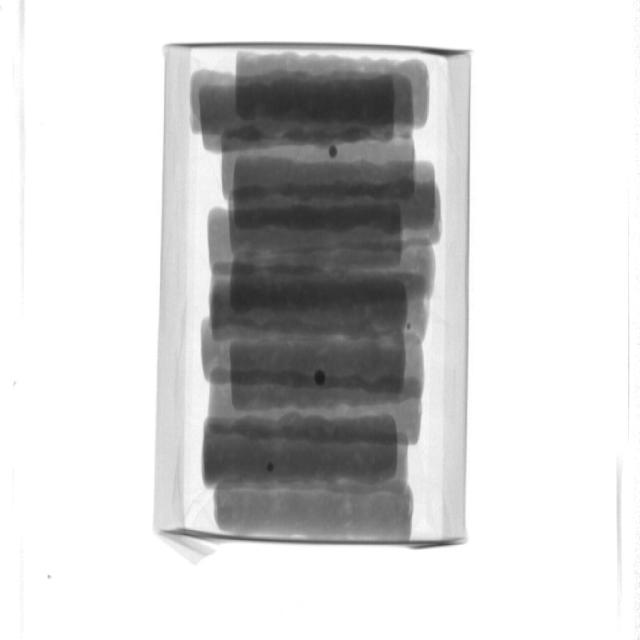ym: (316, 371, 328, 388), (329, 146, 338, 159), (269, 464, 277, 472), (408, 326, 416, 334)
